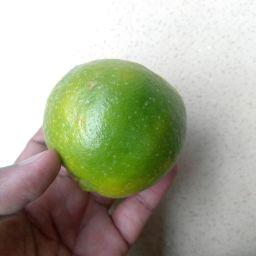Unripe: (44, 61, 185, 199)
